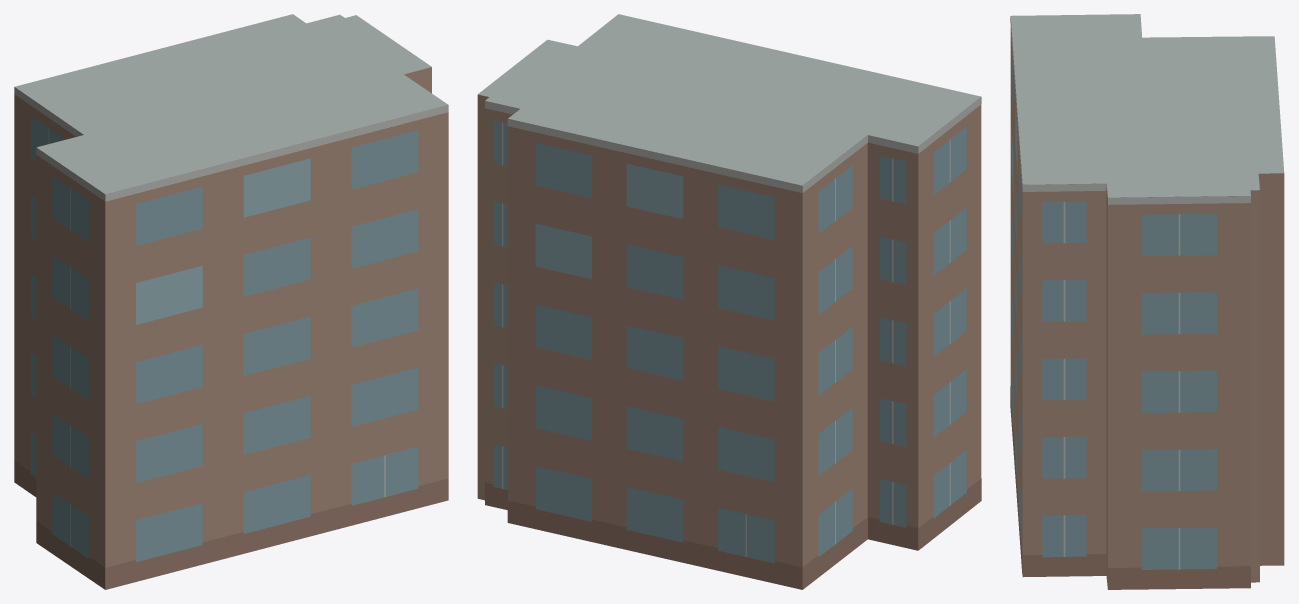
The model's file is survey-upis-32607996.glb.
3 views of the same model, side by side, from view 1: azimuth 30°, elevation 25°; view 2: azimuth 150°, elevation 25°; view 3: azimuth 270°, elevation 25° (orthographic). The views are drawn at different scales.
Parts seen in each view (by area): view 1: survey-upis-32607996.tmp; view 2: survey-upis-32607996.tmp; view 3: survey-upis-32607996.tmp.
Part boxes in pixels (<box>): survey-upis-32607996.tmp: <box>14,14,448,589</box>; survey-upis-32607996.tmp: <box>477,14,981,589</box>; survey-upis-32607996.tmp: <box>1010,14,1284,589</box>.
Bounding box in the file's own units: 13.26 × 13.2 × 8.36.
